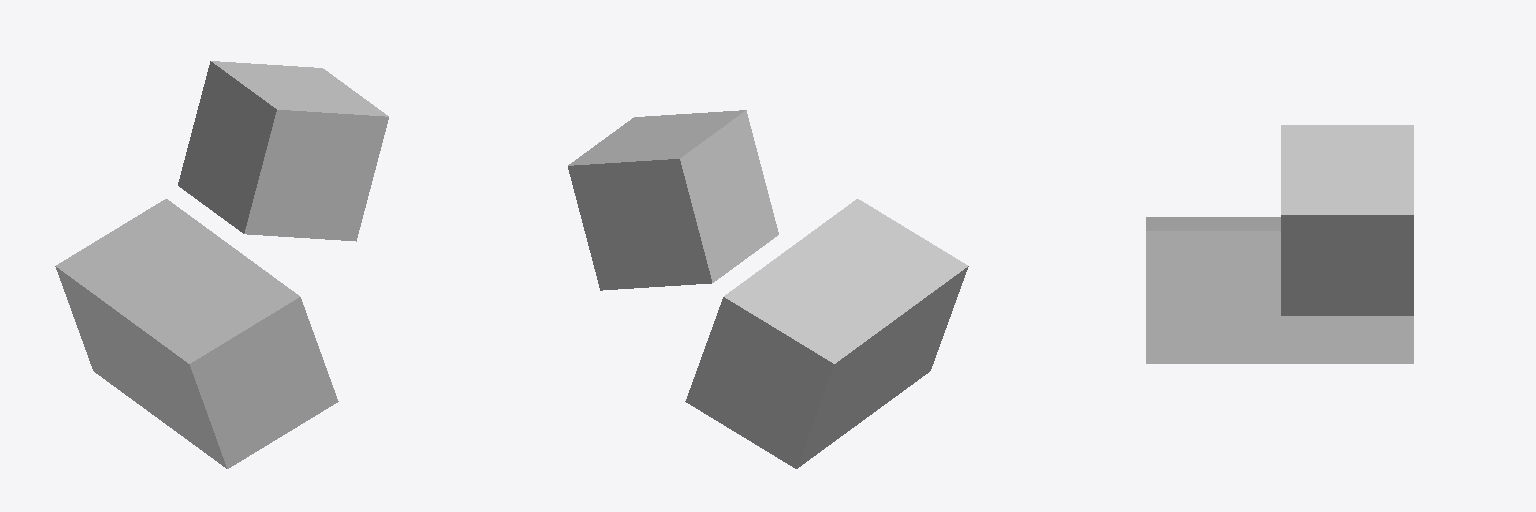
Rendered from boxes.obj.
3 views of the same model, side by side, from view 1: azimuth 30°, elevation 25°; view 2: azimuth 150°, elevation 25°; view 3: azimuth 270°, elevation 25° (orthographic).
Parts seen in each view (by area): view 1: Cube.001, Cube; view 2: Cube.001, Cube; view 3: Cube.001, Cube.
Boxes of the visible parts, box(x1,y1,x2,y2) form: Cube.001: box(55, 199, 338, 468); Cube: box(178, 61, 388, 241); Cube.001: box(685, 199, 968, 468); Cube: box(568, 110, 778, 290); Cube.001: box(1146, 217, 1413, 363); Cube: box(1281, 125, 1413, 315).
Size of the model in its own units: 1.38 by 1.39 by 1.2.